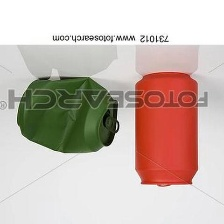can: (10, 69, 122, 158), (131, 70, 203, 190)
